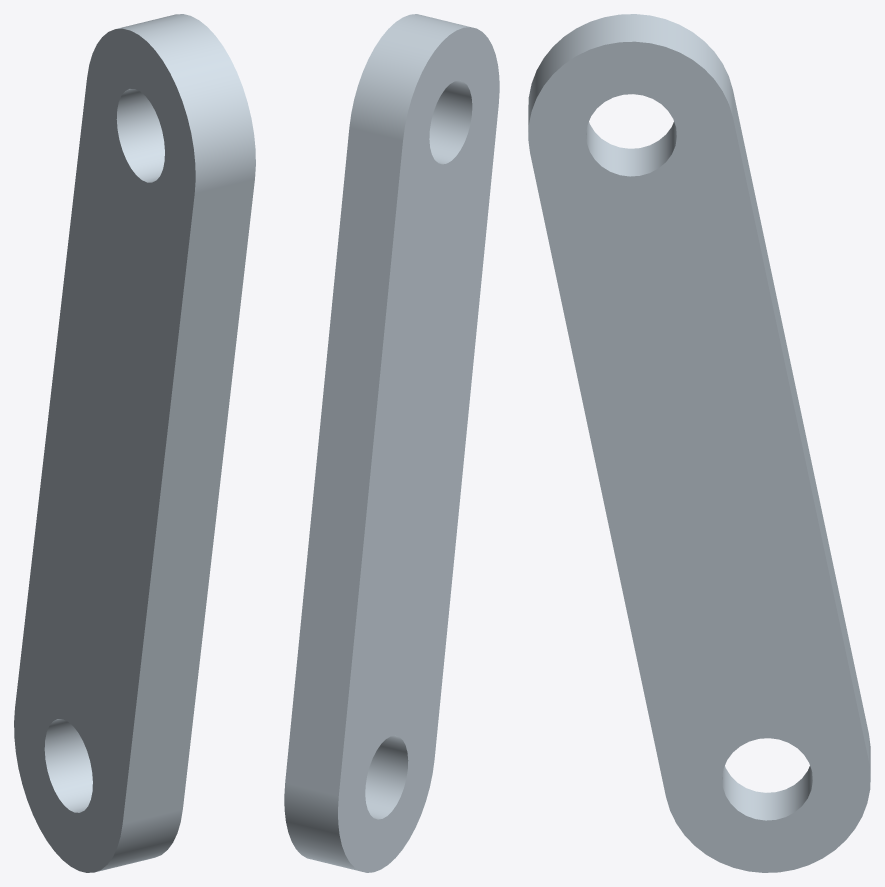
File: Top Mid Connector.glb
3 renders of one model, left to right at view 1: azimuth 30°, elevation 25°; view 2: azimuth 150°, elevation 25°; view 3: azimuth 270°, elevation 25°, orthographic. The views are drawn at different scales.
Visible parts, largest first — view 1: Top Mid Connector; view 2: Top Mid Connector; view 3: Top Mid Connector.
Part boxes in pixels (x1=…): Top Mid Connector: x1=14, y1=14, x2=255, y2=872; Top Mid Connector: x1=284, y1=14, x2=499, y2=872; Top Mid Connector: x1=528, y1=14, x2=870, y2=872.
Size of the model in its own units: 0.00317 by 0.0444 by 0.0166.
